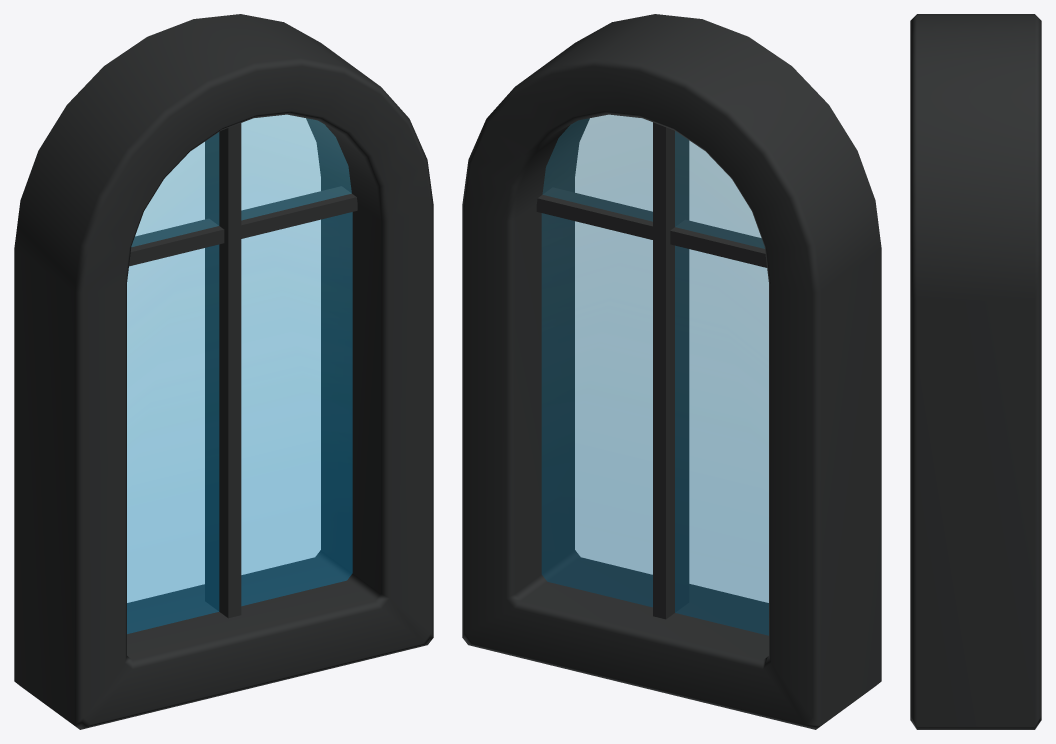
File: Window_Black_16.glb
3 views of the same model, side by side, from view 1: azimuth 30°, elevation 25°; view 2: azimuth 150°, elevation 25°; view 3: azimuth 270°, elevation 25° (orthographic).
Parts seen in each view (by area): view 1: Window_Black_16; view 2: Window_Black_16; view 3: Window_Black_16.
Part boxes in pixels (left/top/right/bottom): Window_Black_16: left=14, top=14, right=433, bottom=729; Window_Black_16: left=462, top=14, right=881, bottom=729; Window_Black_16: left=910, top=14, right=1041, bottom=729.
Bounding box in the file's own units: 1.24 × 2.07 × 0.4.
Materials: 2 (2 with a texture image).
